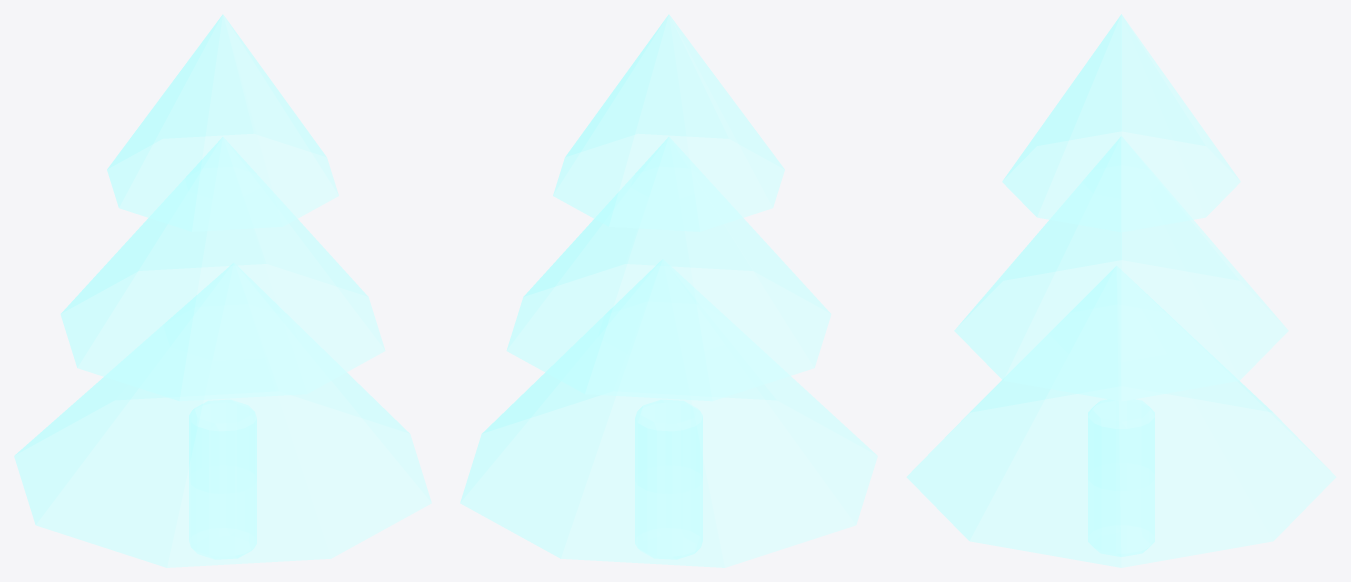
File: GH_Dressing_PineTree.fbx
3 renders of one model, left to right at view 1: azimuth 30°, elevation 25°; view 2: azimuth 150°, elevation 25°; view 3: azimuth 270°, elevation 25°, orthographic.
Visible parts, largest first — view 1: SM_Dressing_PineTree; view 2: SM_Dressing_PineTree; view 3: SM_Dressing_PineTree.
Part boxes in pixels (bbox=[...]): SM_Dressing_PineTree: bbox=[14, 14, 431, 567]; SM_Dressing_PineTree: bbox=[460, 14, 877, 567]; SM_Dressing_PineTree: bbox=[906, 14, 1336, 567].
Bounding box in the file's own units: 1.44 × 1.96 × 1.44.
